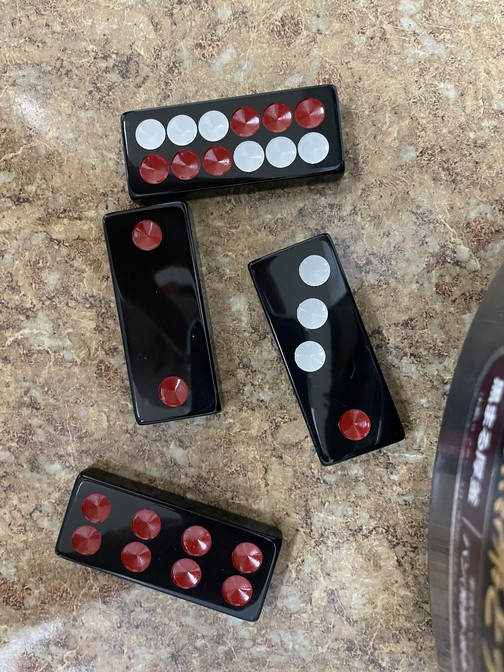earth: (101, 201, 223, 425)
goose: (248, 233, 406, 469)
heaven: (119, 86, 347, 204)
man: (54, 466, 283, 623)
